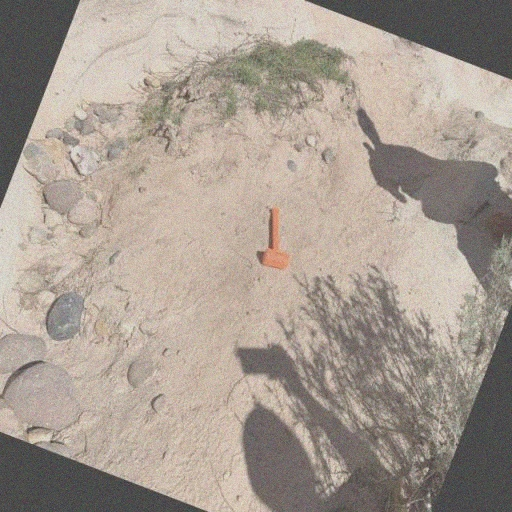mallet: (252, 206, 306, 272)
